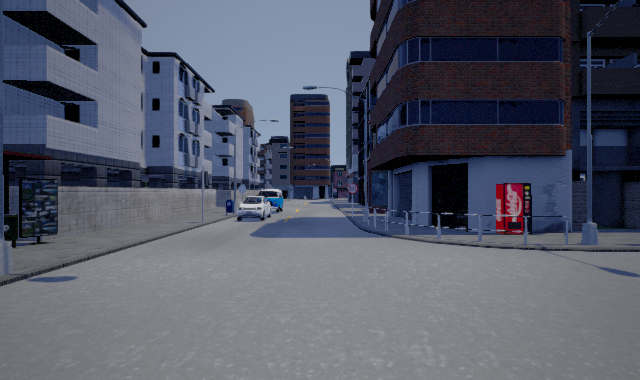traffic_sign: (348, 183, 358, 194)
vehicle: (236, 196, 271, 220), (257, 187, 283, 213)
